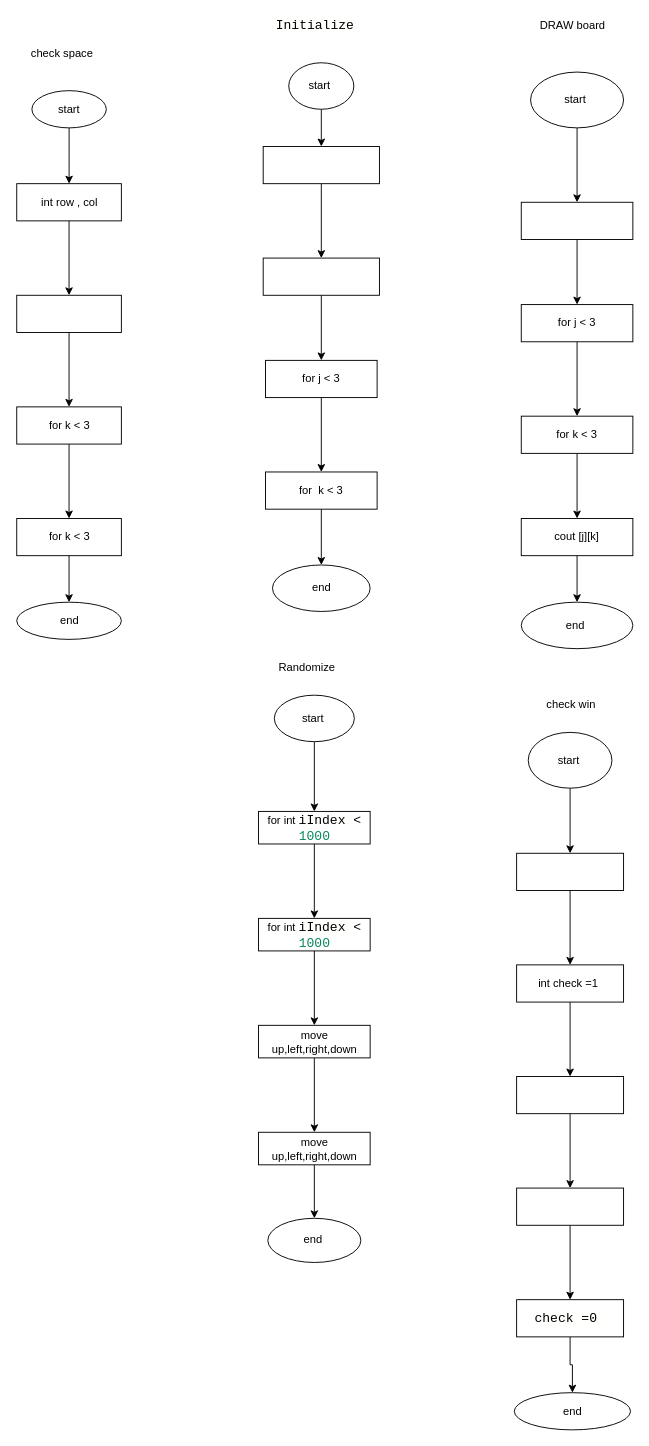
The diagram is 649 pixels wide and 1446 high, and some of its shapes have lost their labels. Each missing label, with the box of its shape:
char fixarr[3][3]: (516, 852, 624, 890)
char use board [3][3]: (262, 257, 379, 295)
for j< 3: (16, 294, 121, 332)
JRow < 3: (516, 1076, 624, 1114)
kRow < 3: (516, 1187, 624, 1225)
let initailaze fixarray [3][3]: (262, 146, 379, 184)
let j , k: (520, 201, 633, 239)
